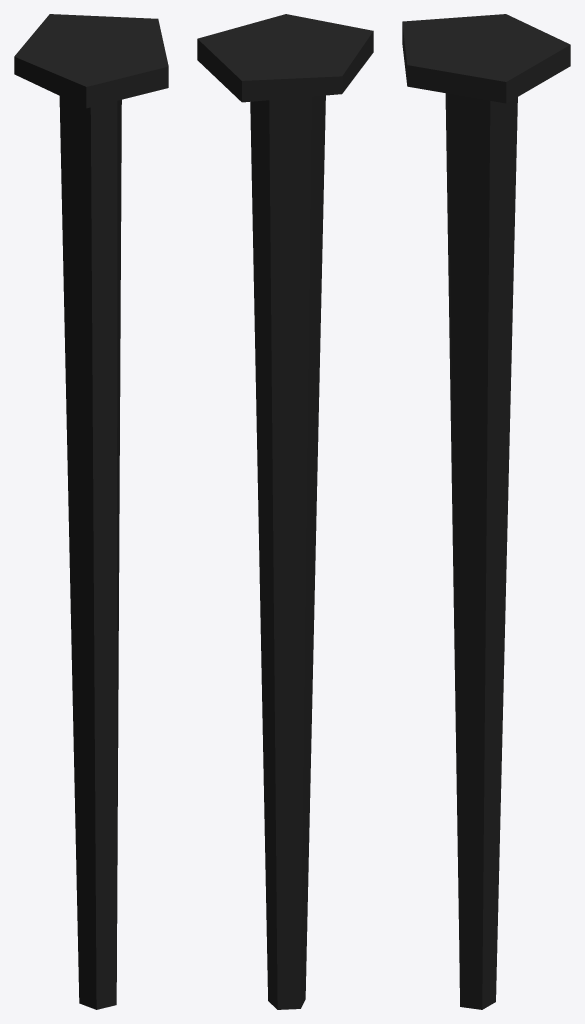
File: nail03.obj
3 views of the same model, side by side, from view 1: azimuth 30°, elevation 25°; view 2: azimuth 150°, elevation 25°; view 3: azimuth 270°, elevation 25° (orthographic).
Parts seen in each view (by area): view 1: Cube_Cube.001; view 2: Cube_Cube.001; view 3: Cube_Cube.001.
Part boxes in pixels (left/top/right/bottom): Cube_Cube.001: left=14, top=14, right=168, bottom=1009; Cube_Cube.001: left=197, top=14, right=373, bottom=1009; Cube_Cube.001: left=402, top=14, right=570, bottom=1009.
Bounding box in the file's own units: 0.00951 × 0.0601 × 0.00959.
